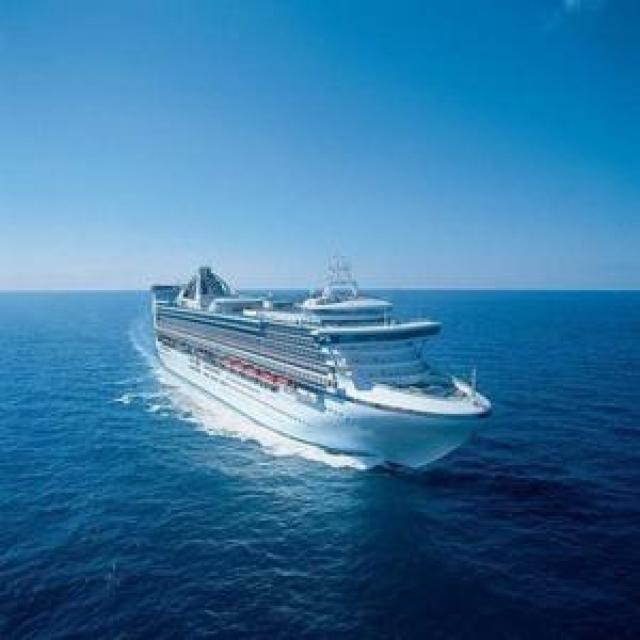passenger ship: (147, 260, 487, 468)
